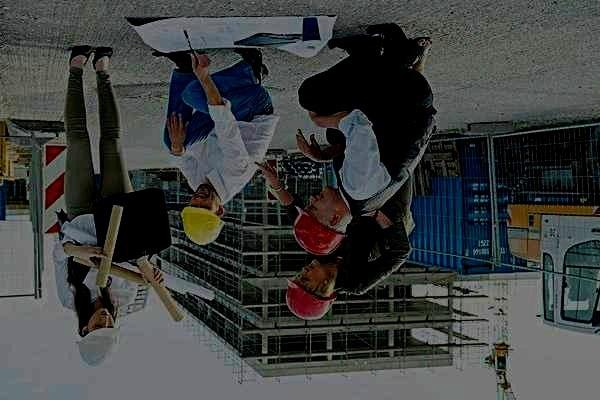helmet: (292, 186, 352, 257), (285, 260, 338, 320), (180, 183, 226, 245), (74, 308, 121, 366)
